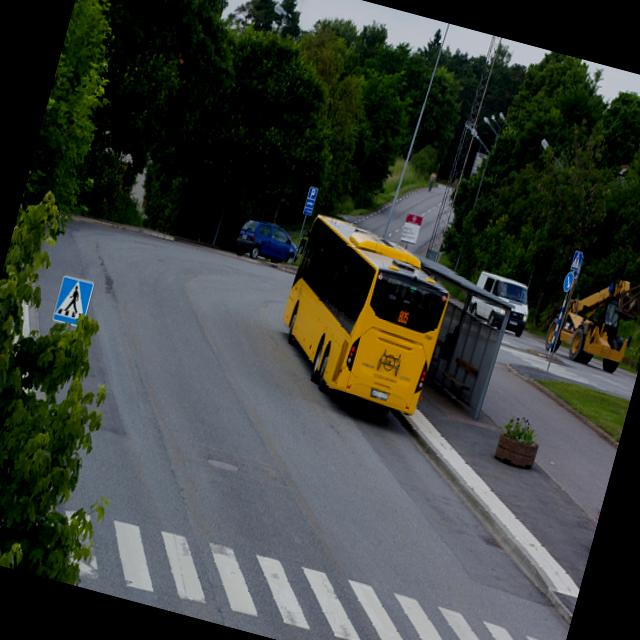Vehicle: (266, 212, 460, 416), (467, 270, 537, 337), (232, 217, 304, 270)
